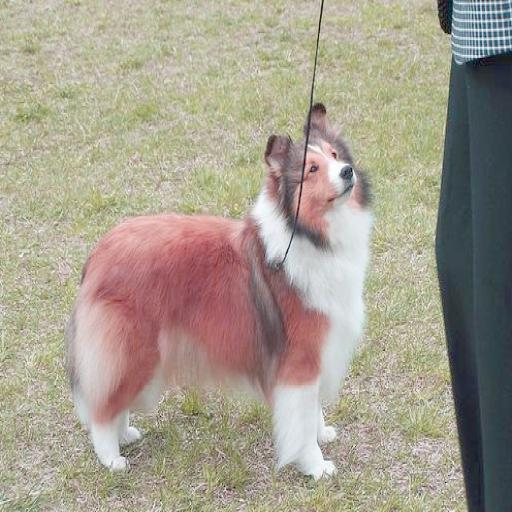dog_face: (263, 100, 364, 217)
